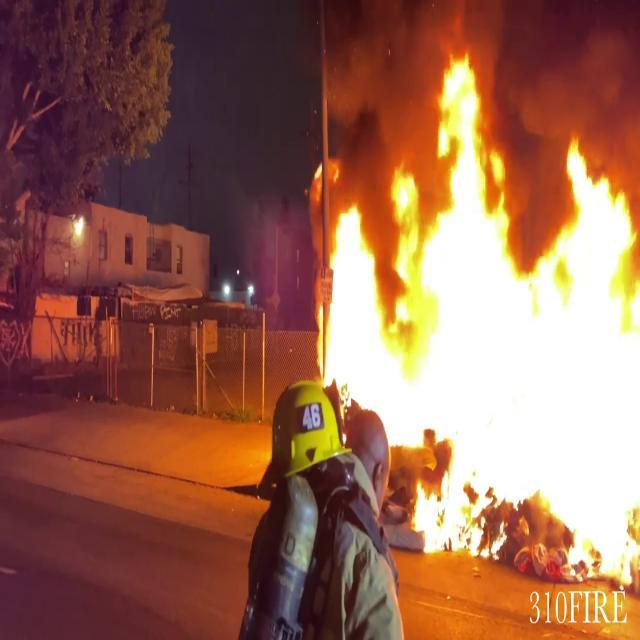Fire: (311, 44, 640, 574)
